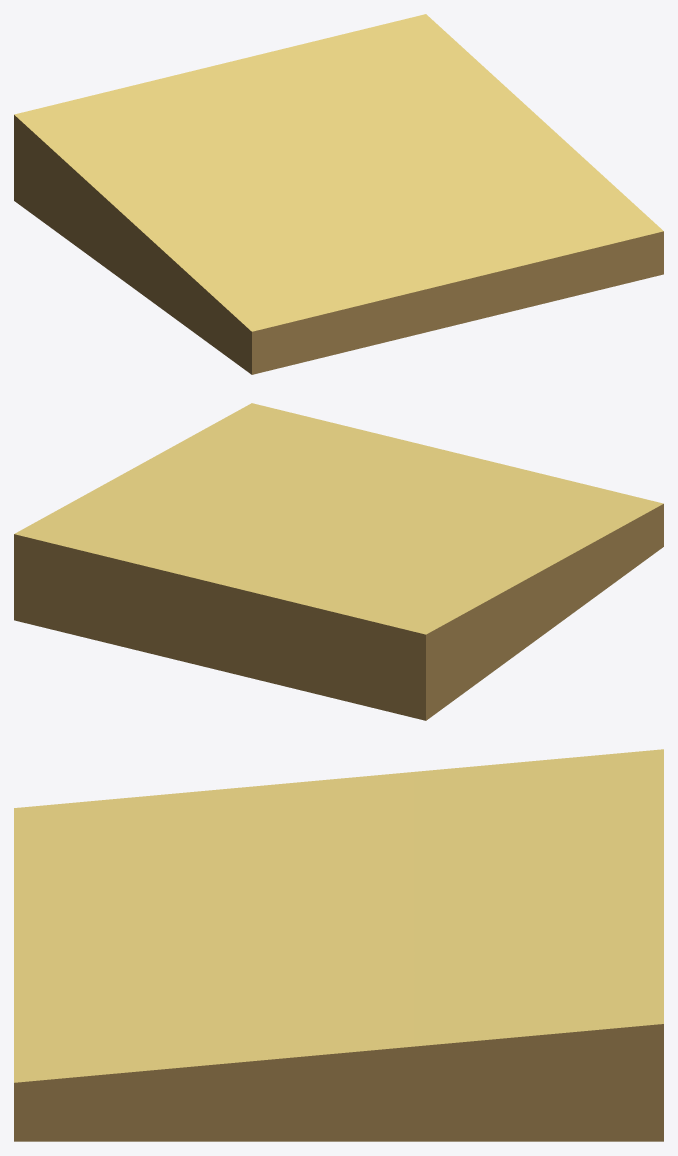
The model's file is Terrain_Modular_Tiles_Sand_Dirt_Ramp_Small_01.fbx.
3 renders of one model, top to bottom at view 1: azimuth 30°, elevation 25°; view 2: azimuth 150°, elevation 25°; view 3: azimuth 270°, elevation 25°, orthographic. The views are drawn at different scales.
Visible parts, largest first — view 1: Terrain_Modular_Tiles_Sand_Dirt_Ramp_Small_01; view 2: Terrain_Modular_Tiles_Sand_Dirt_Ramp_Small_01; view 3: Terrain_Modular_Tiles_Sand_Dirt_Ramp_Small_01.
Part boxes in pixels (x1=…): Terrain_Modular_Tiles_Sand_Dirt_Ramp_Small_01: x1=14, y1=14, x2=663, y2=374; Terrain_Modular_Tiles_Sand_Dirt_Ramp_Small_01: x1=14, y1=403, x2=663, y2=720; Terrain_Modular_Tiles_Sand_Dirt_Ramp_Small_01: x1=14, y1=749, x2=663, y2=1141.
Bounding box in the file's own units: 118 × 23.62 × 118.
